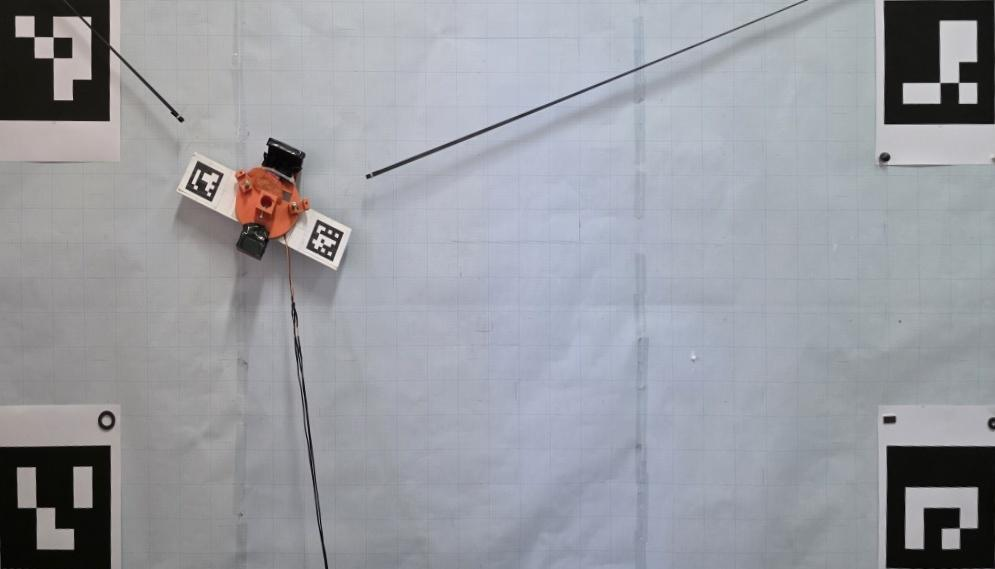robot: (235, 137, 310, 261)
